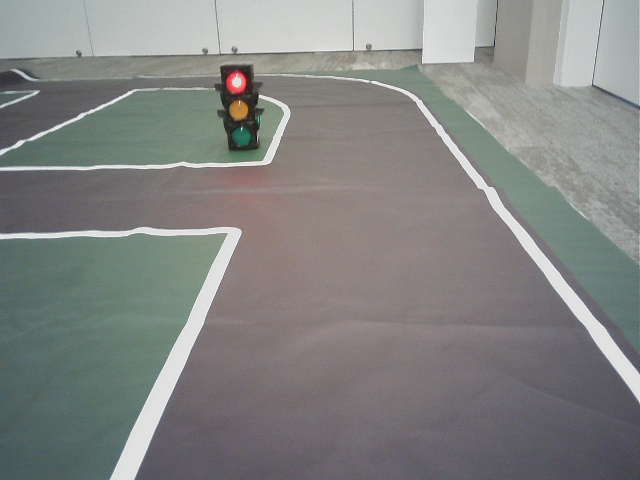red: (222, 67, 256, 146)
